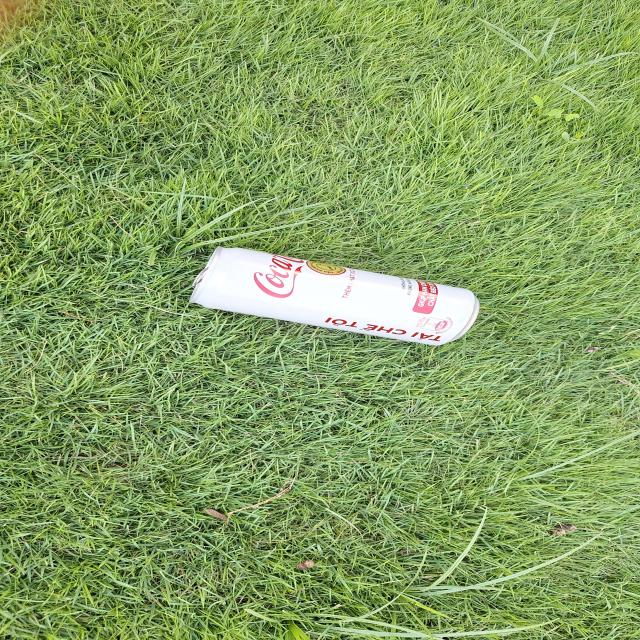Coca Cola Plus: (184, 234, 483, 353)
